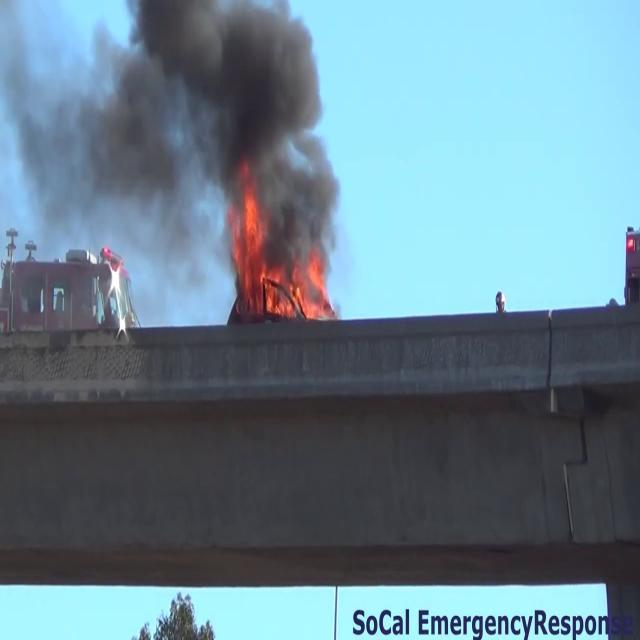Fire: (225, 185, 340, 324)
Smoke: (1, 0, 347, 258)
